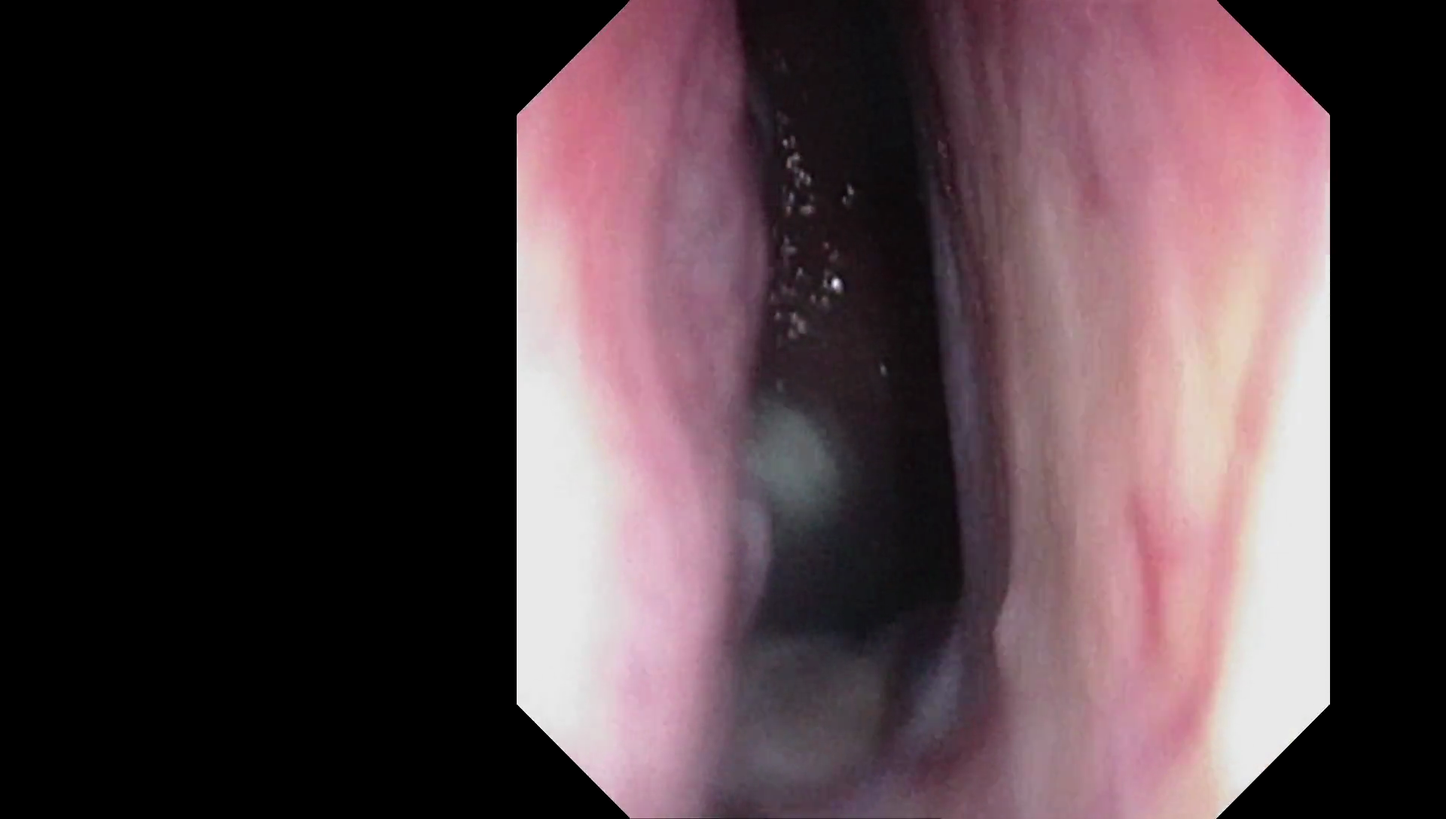close_wall: (521, 166, 766, 705), (1065, 208, 1323, 709)
next: (739, 290, 1044, 678)
